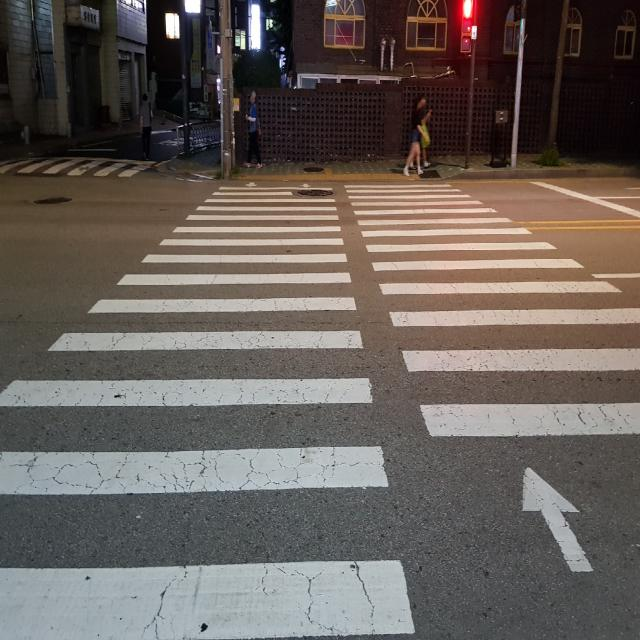빨간불: (455, 0, 476, 58)
횡단보도: (0, 182, 640, 640)
